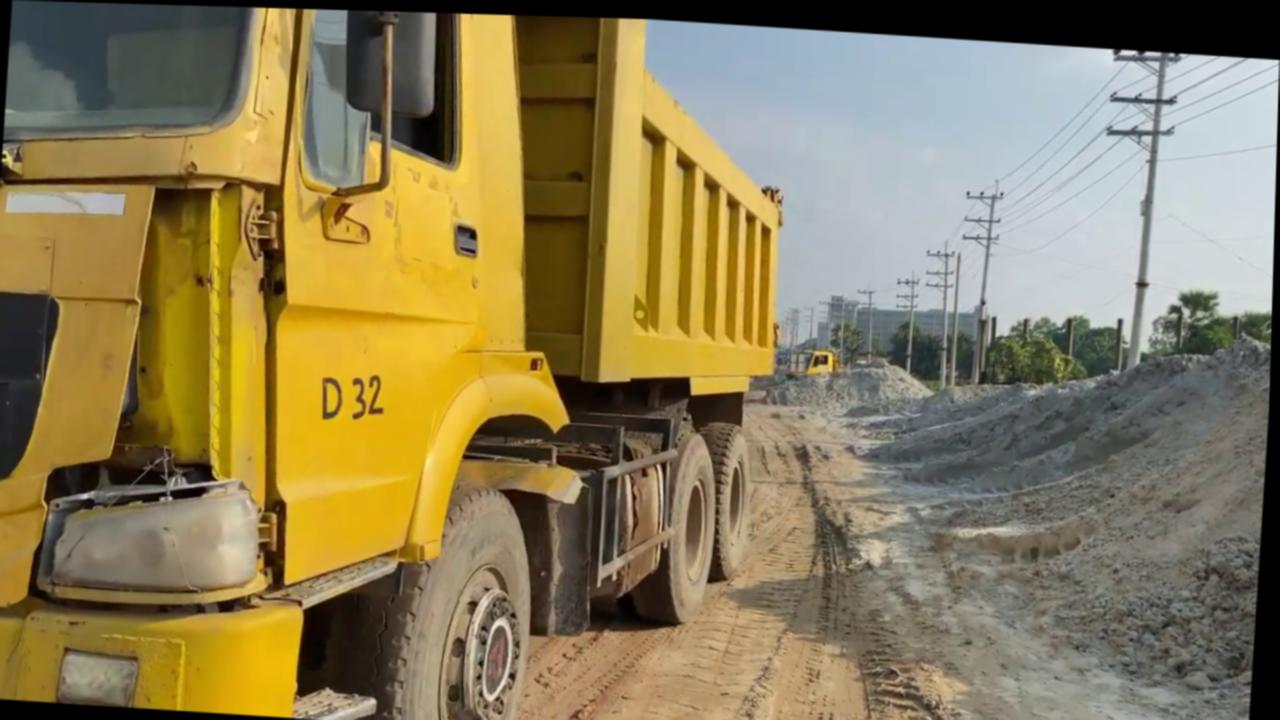Pole: (1128, 45, 1168, 364)
Tree: (0, 0, 798, 720), (788, 342, 844, 375)
